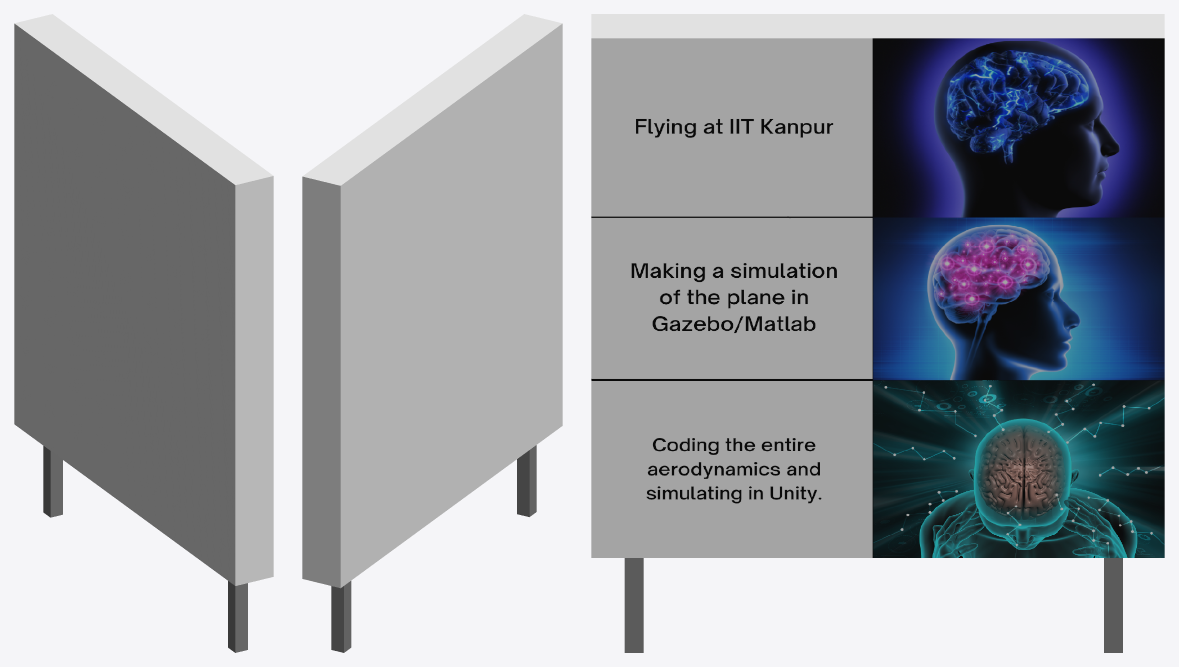
File: SquareBillboard.fbx
3 renders of one model, left to right at view 1: azimuth 30°, elevation 25°; view 2: azimuth 150°, elevation 25°; view 3: azimuth 270°, elevation 25°, orthographic. The views are drawn at different scales.
Visible parts, largest first — view 1: Cube, Cube.001, Cube.002; view 2: Cube, Cube.002, Cube.001; view 3: Cube, Cube.001, Cube.002.
Boxes of the visible parts, box(x1,y1,x2,y2) form: Cube: box(14, 14, 273, 585); Cube.001: box(228, 581, 247, 652); Cube.002: box(43, 446, 62, 517); Cube: box(302, 14, 562, 588); Cube.002: box(331, 581, 351, 652); Cube.001: box(517, 445, 536, 516); Cube: box(591, 14, 1164, 557); Cube.001: box(624, 558, 643, 652); Cube.002: box(1104, 558, 1122, 652).
Bounding box in the file's own units: 20 × 240 × 200.
